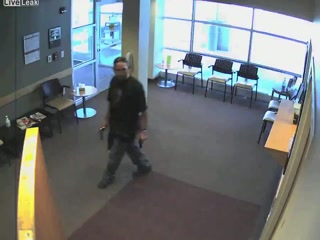pistol: (99, 124, 107, 141)
